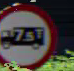Heavy Vehicles: (0, 1, 56, 70)
